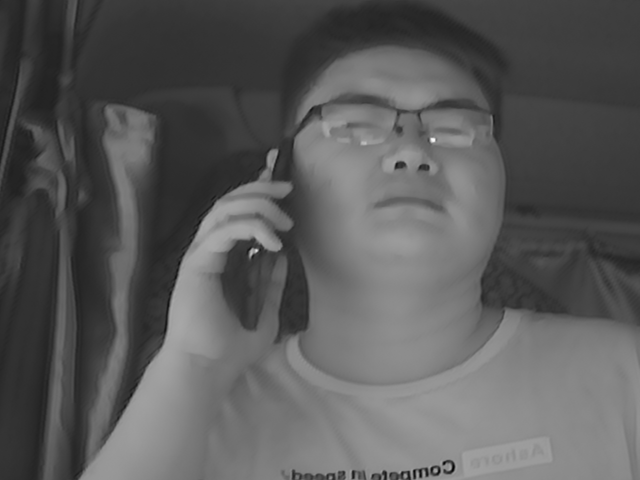hand: (168, 175, 288, 374)
